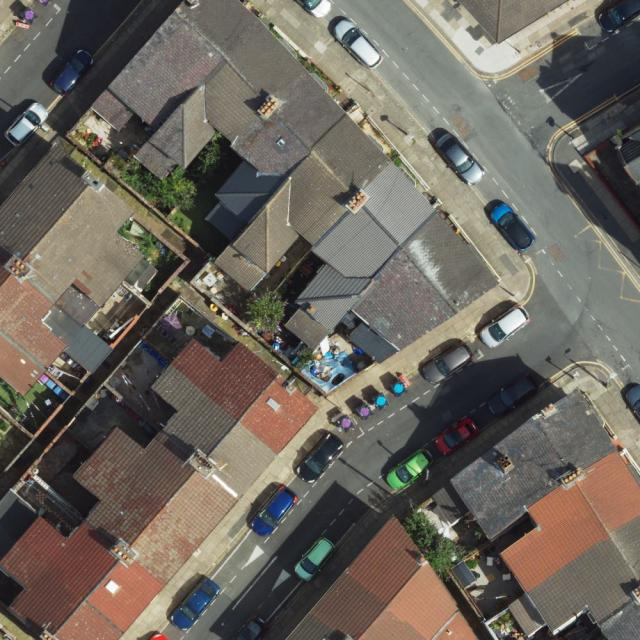roof: (89, 0, 501, 364), (0, 336, 316, 640), (451, 387, 640, 640), (0, 141, 144, 394), (287, 514, 481, 640), (456, 0, 574, 44)
skylight: (102, 576, 124, 596), (262, 394, 282, 409), (274, 136, 288, 148)
